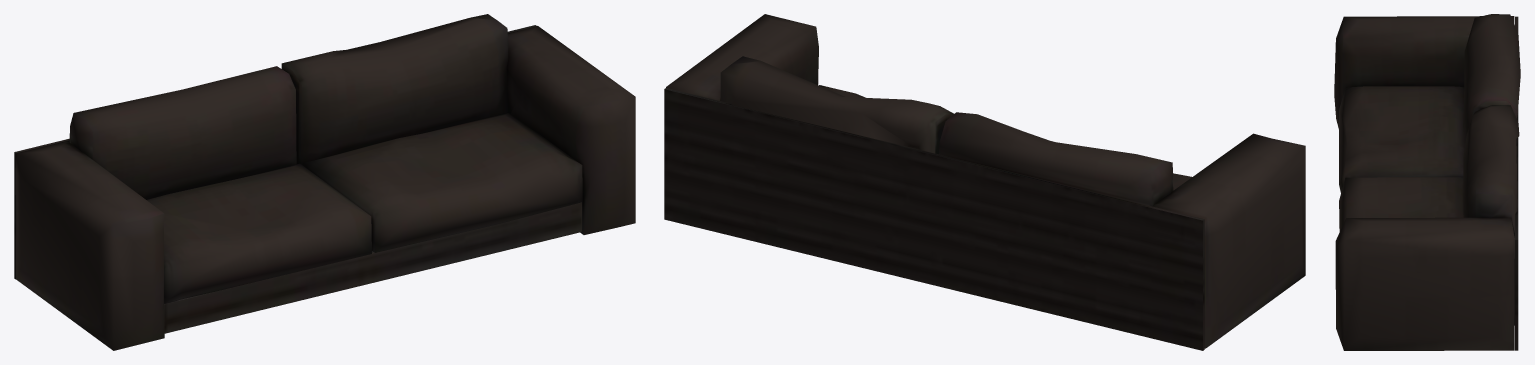
The model's file is sofa-modern.lod1.glb.
3 views of the same model, side by side, from view 1: azimuth 30°, elevation 25°; view 2: azimuth 150°, elevation 25°; view 3: azimuth 270°, elevation 25° (orthographic). The views are drawn at different scales.
Parts seen in each view (by area): view 1: Object_4; view 2: Object_4; view 3: Object_4.
Part boxes in pixels (x1,y1,x2,y2): Object_4: (14, 14, 635, 350); Object_4: (664, 14, 1305, 350); Object_4: (1334, 14, 1520, 350).
Size of the model in its own units: 2.3 by 0.6639 by 0.7923.
Materials: 1 (1 with a texture image).
